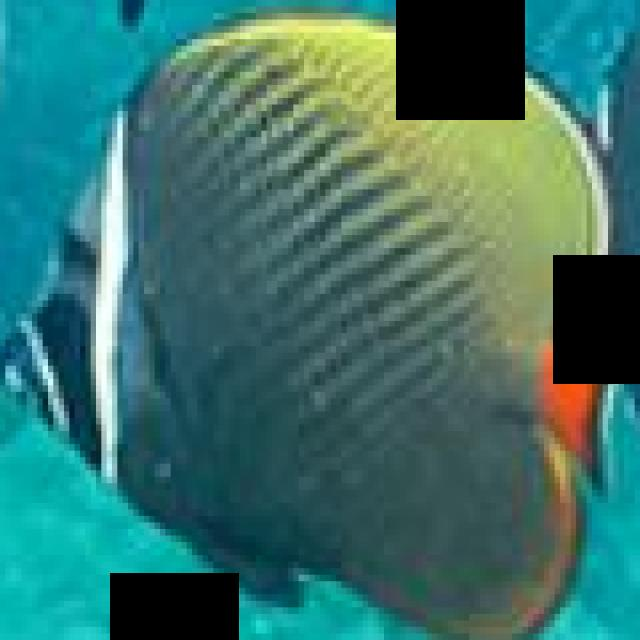fish: (5, 6, 639, 640)
